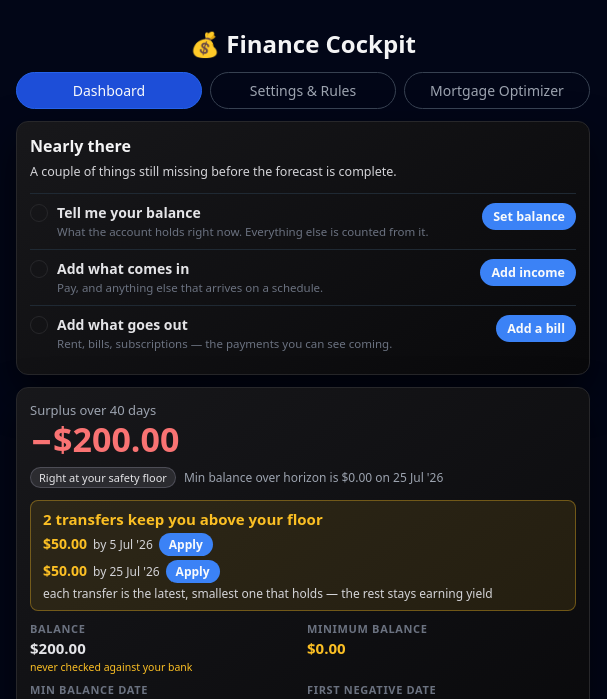
Scenario: App shell › applying one deposit of a multi-transfer plan drops it to a single remaining transfer
Expected: the text "2 transfers keep you above your floor" is shown, [43,509,323,529]
Click the button with aria-label "Apply transfer of": (186, 544) [159,533,213,556]
(page scrolled)
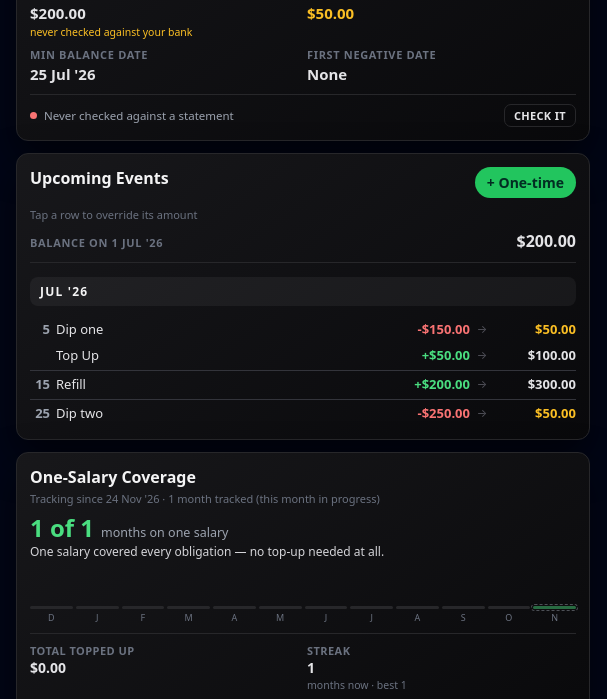
Result: the text "transfers keep you above your floor" is gone
Result: the text "Top Up" is shown at [56,346,99,364]
